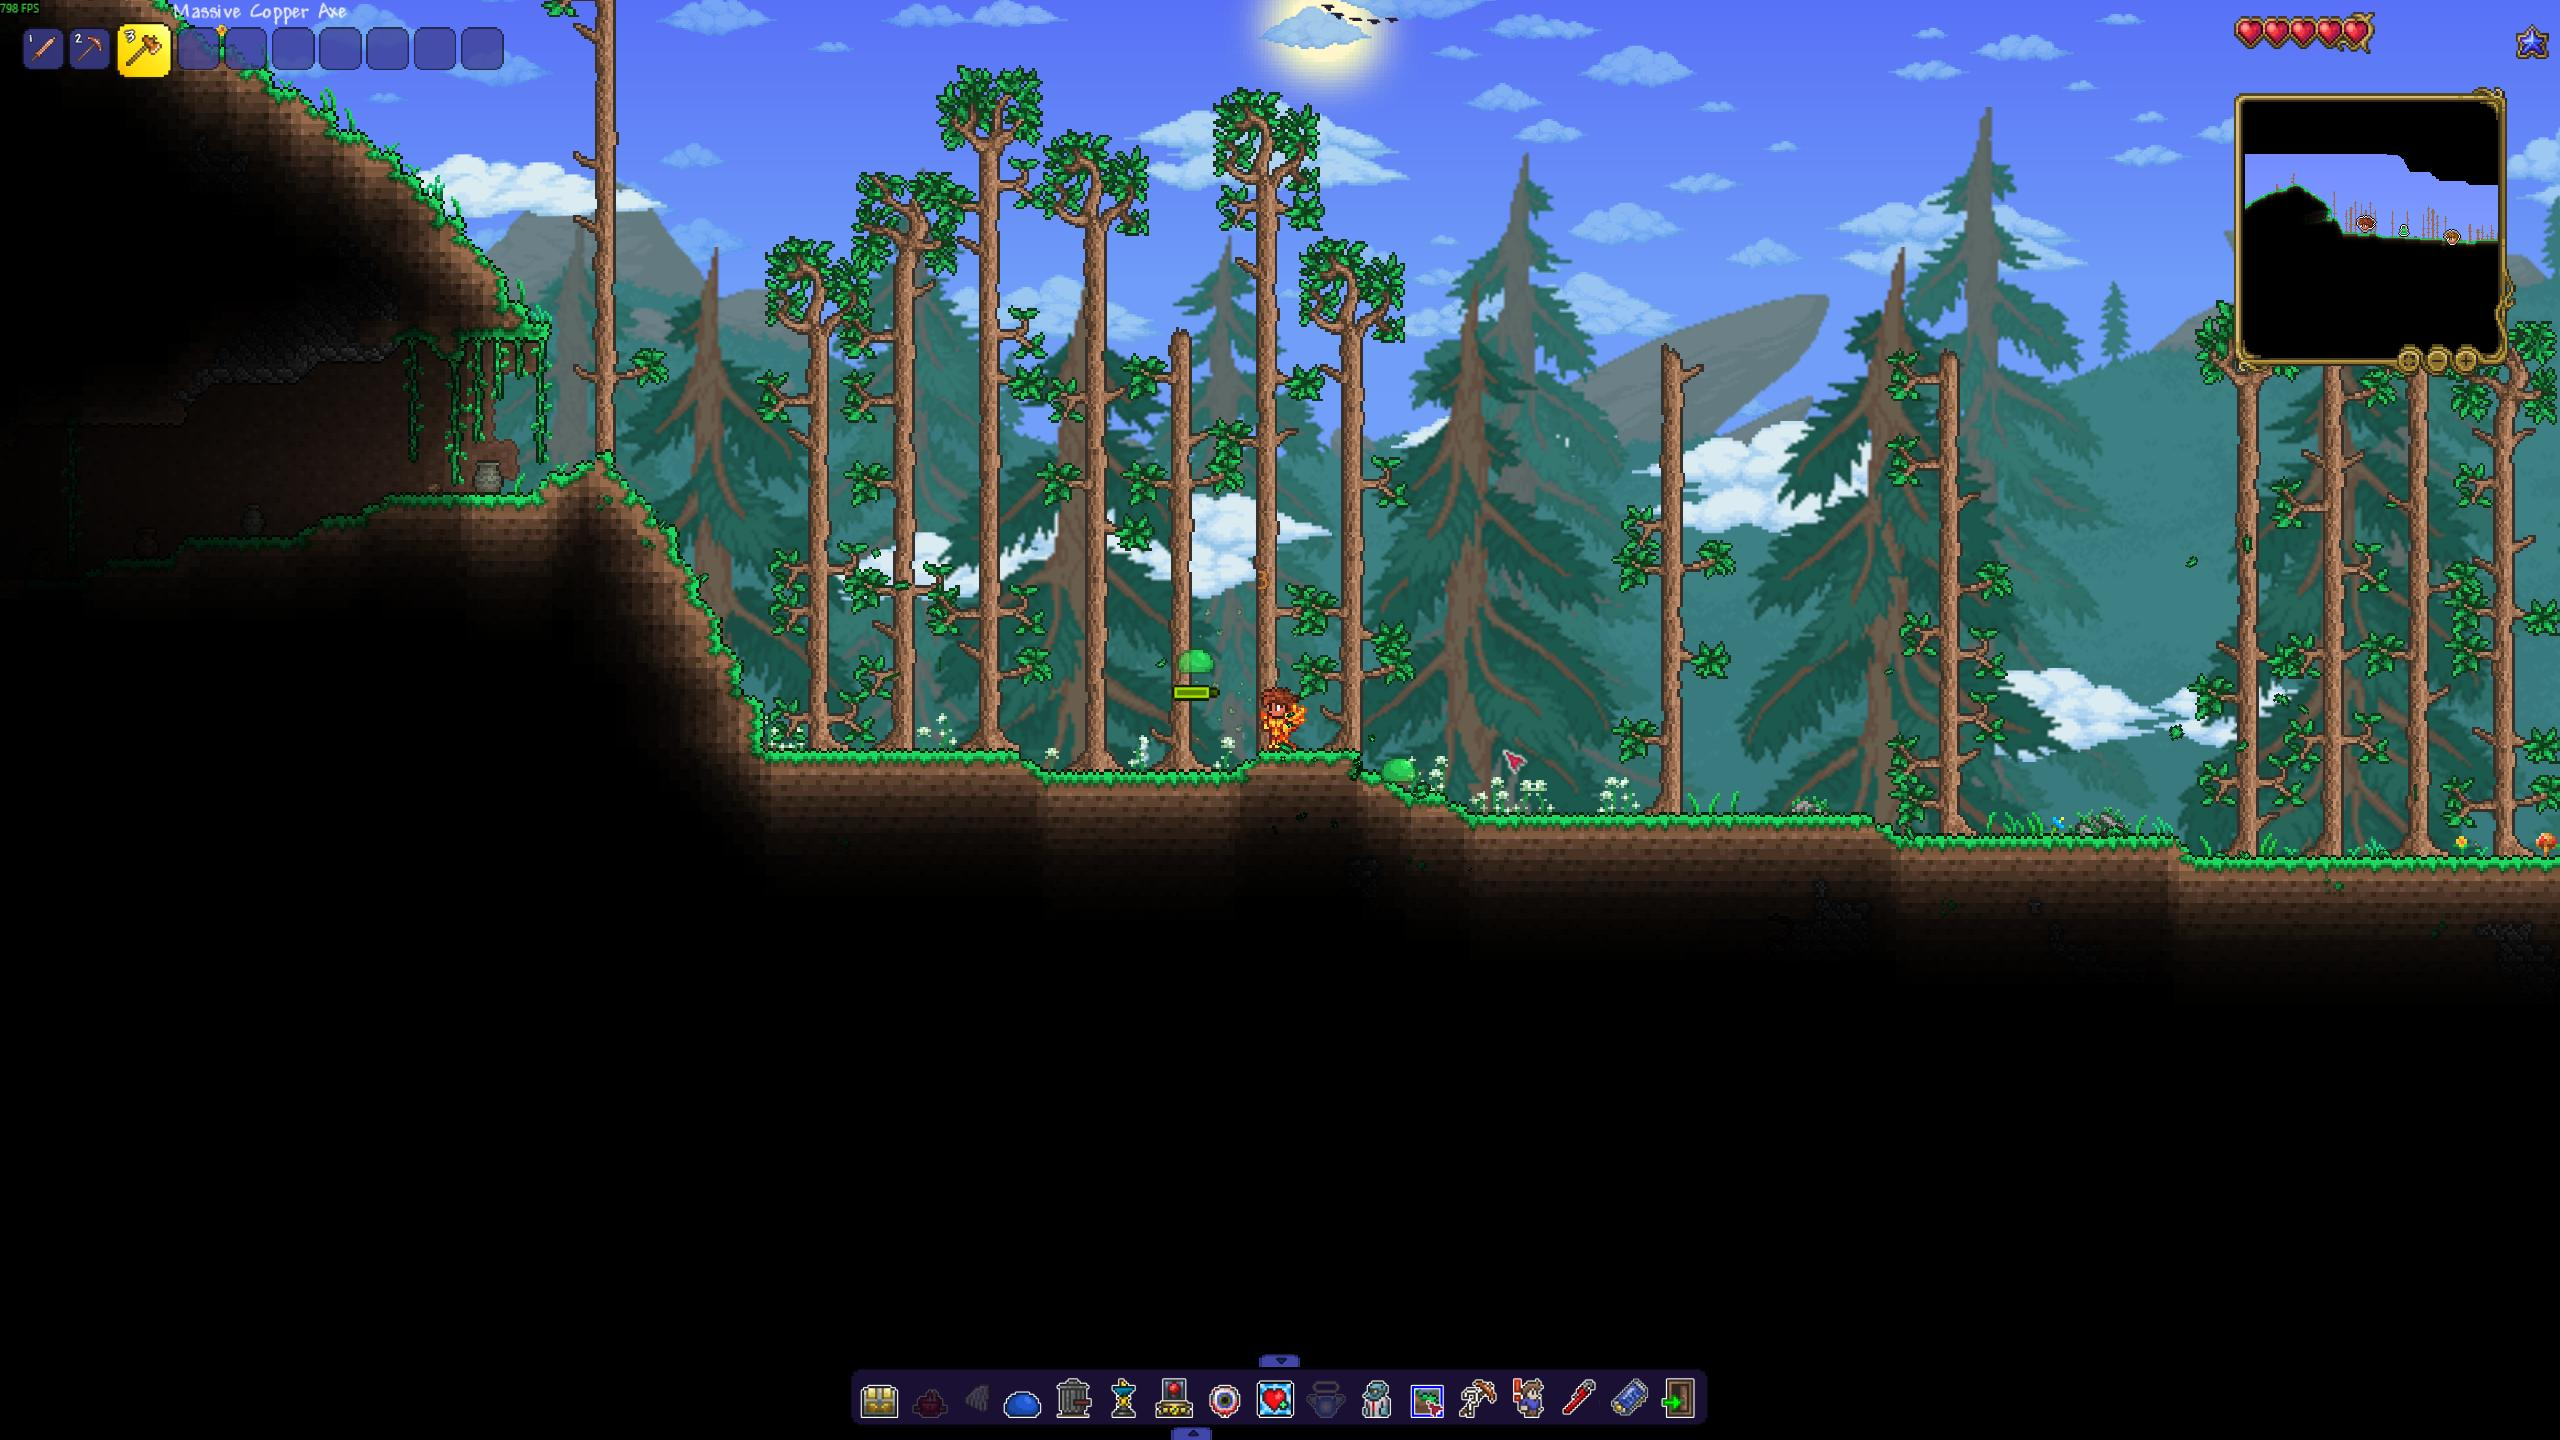Green Slime: (1173, 644, 1218, 679), (1378, 753, 1419, 784)
